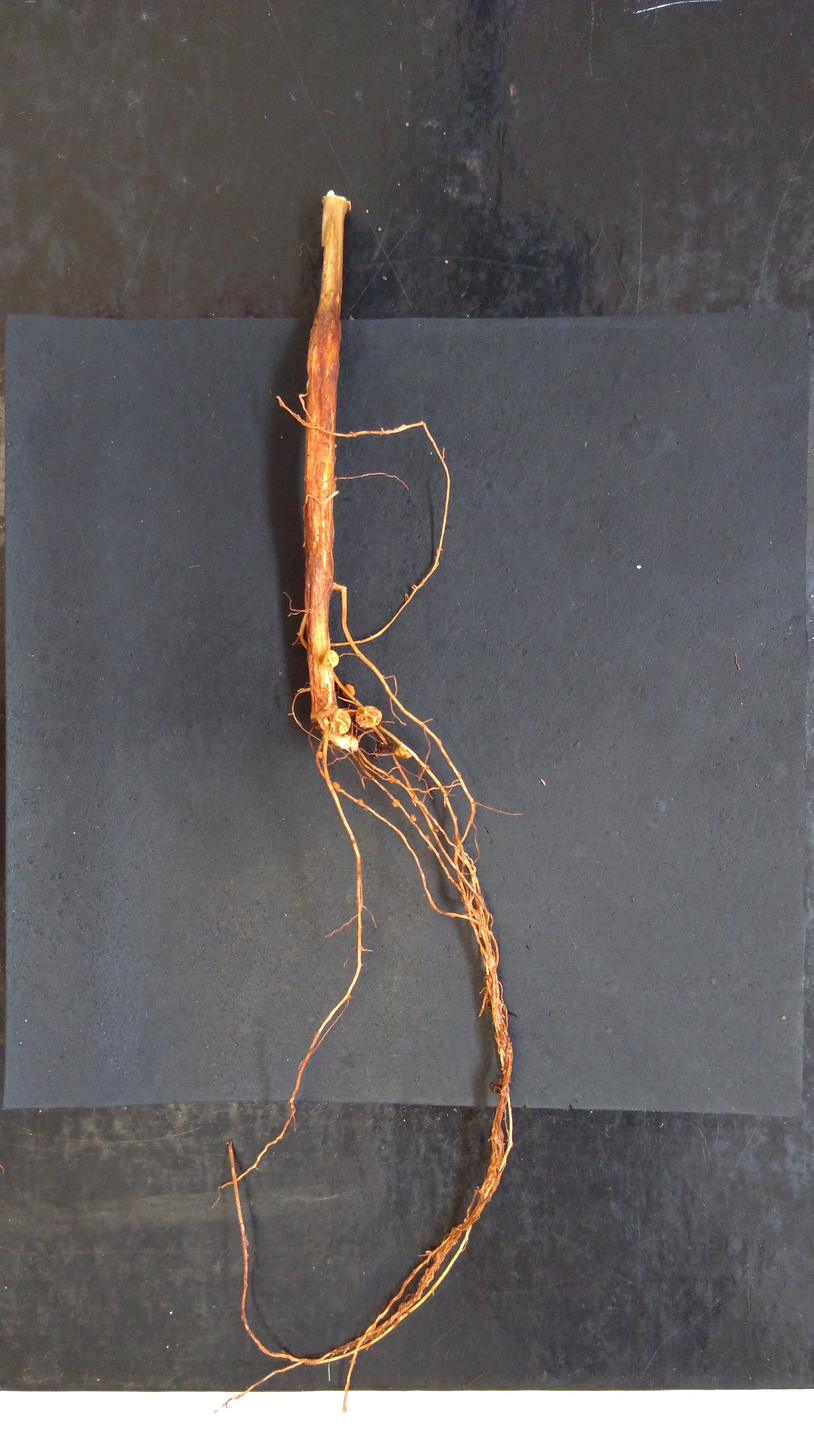nodule: (355, 703, 383, 730), (329, 707, 352, 735), (320, 648, 340, 672), (341, 681, 357, 699), (394, 746, 414, 760), (481, 956, 495, 972), (390, 798, 402, 808), (331, 780, 341, 791), (408, 814, 419, 823), (356, 798, 367, 806), (316, 751, 325, 759), (423, 833, 430, 841), (426, 843, 432, 852)
